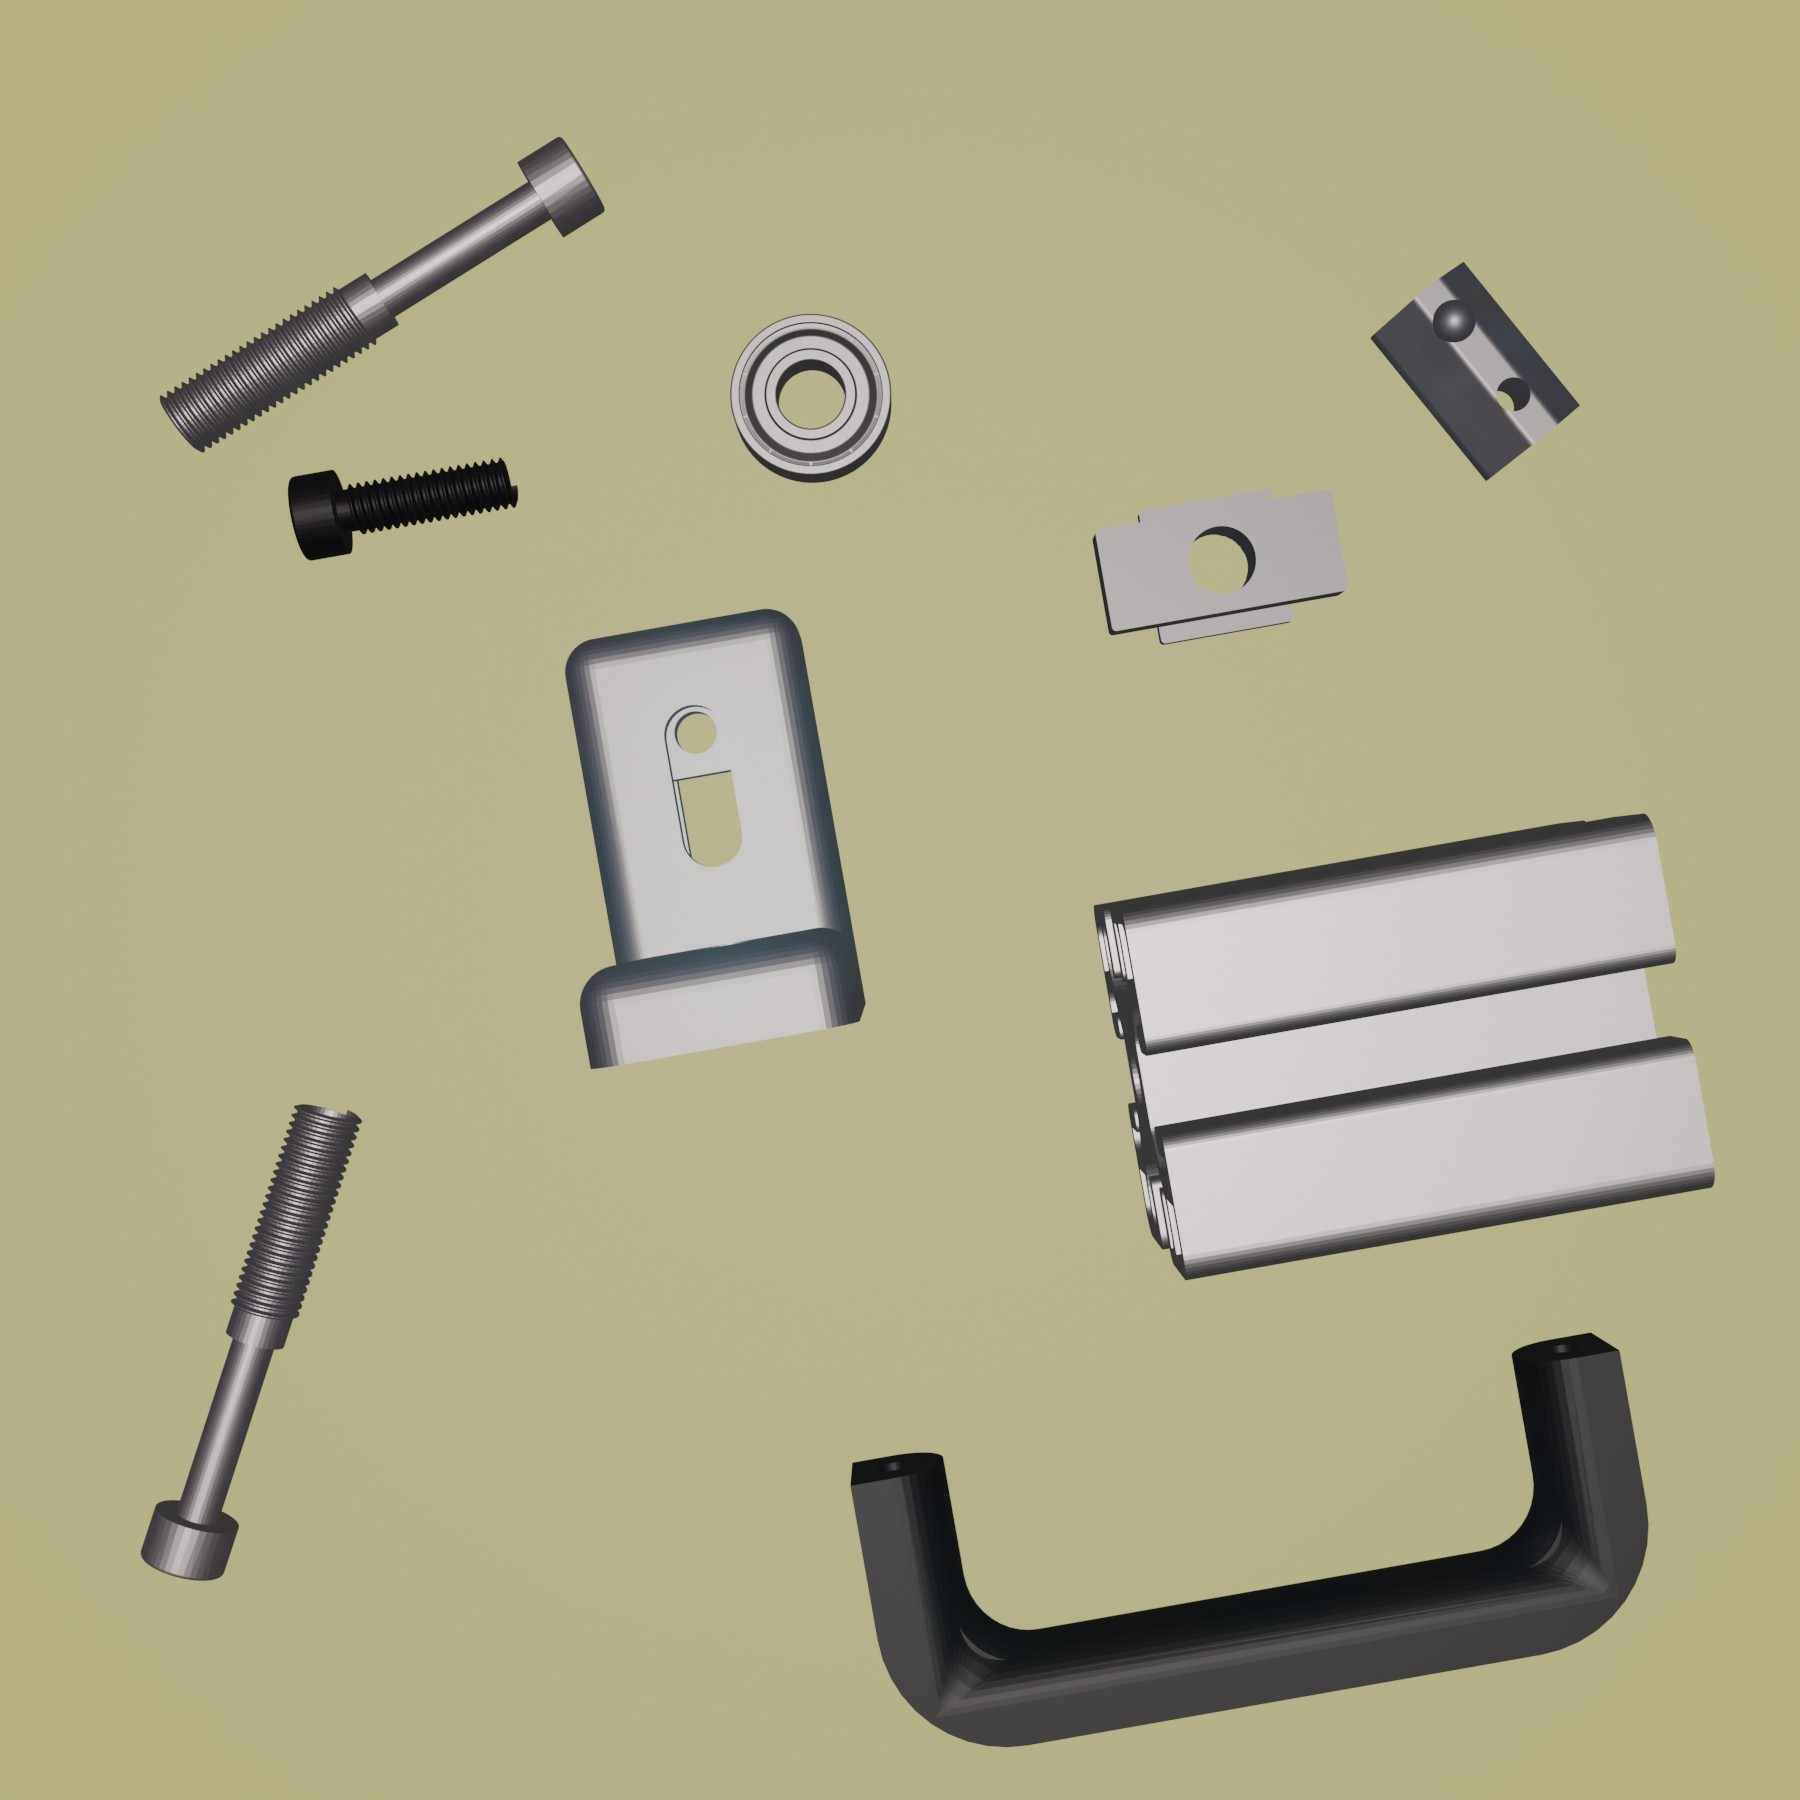Aluminium Extension: (1091, 811, 1718, 1286)
Ball Bearing: (729, 312, 893, 485)
Multiwinkel: (565, 605, 867, 1071)
Pull Handle: (847, 1327, 1650, 1751)
Shoulder Socket Head Cap Screw: (157, 134, 608, 458), (138, 1099, 363, 1582)
Socket Head Cap Screw: (285, 457, 521, 562)
T Nut Square: (1088, 485, 1348, 649)
T Spring Nut: (1371, 260, 1581, 486)
